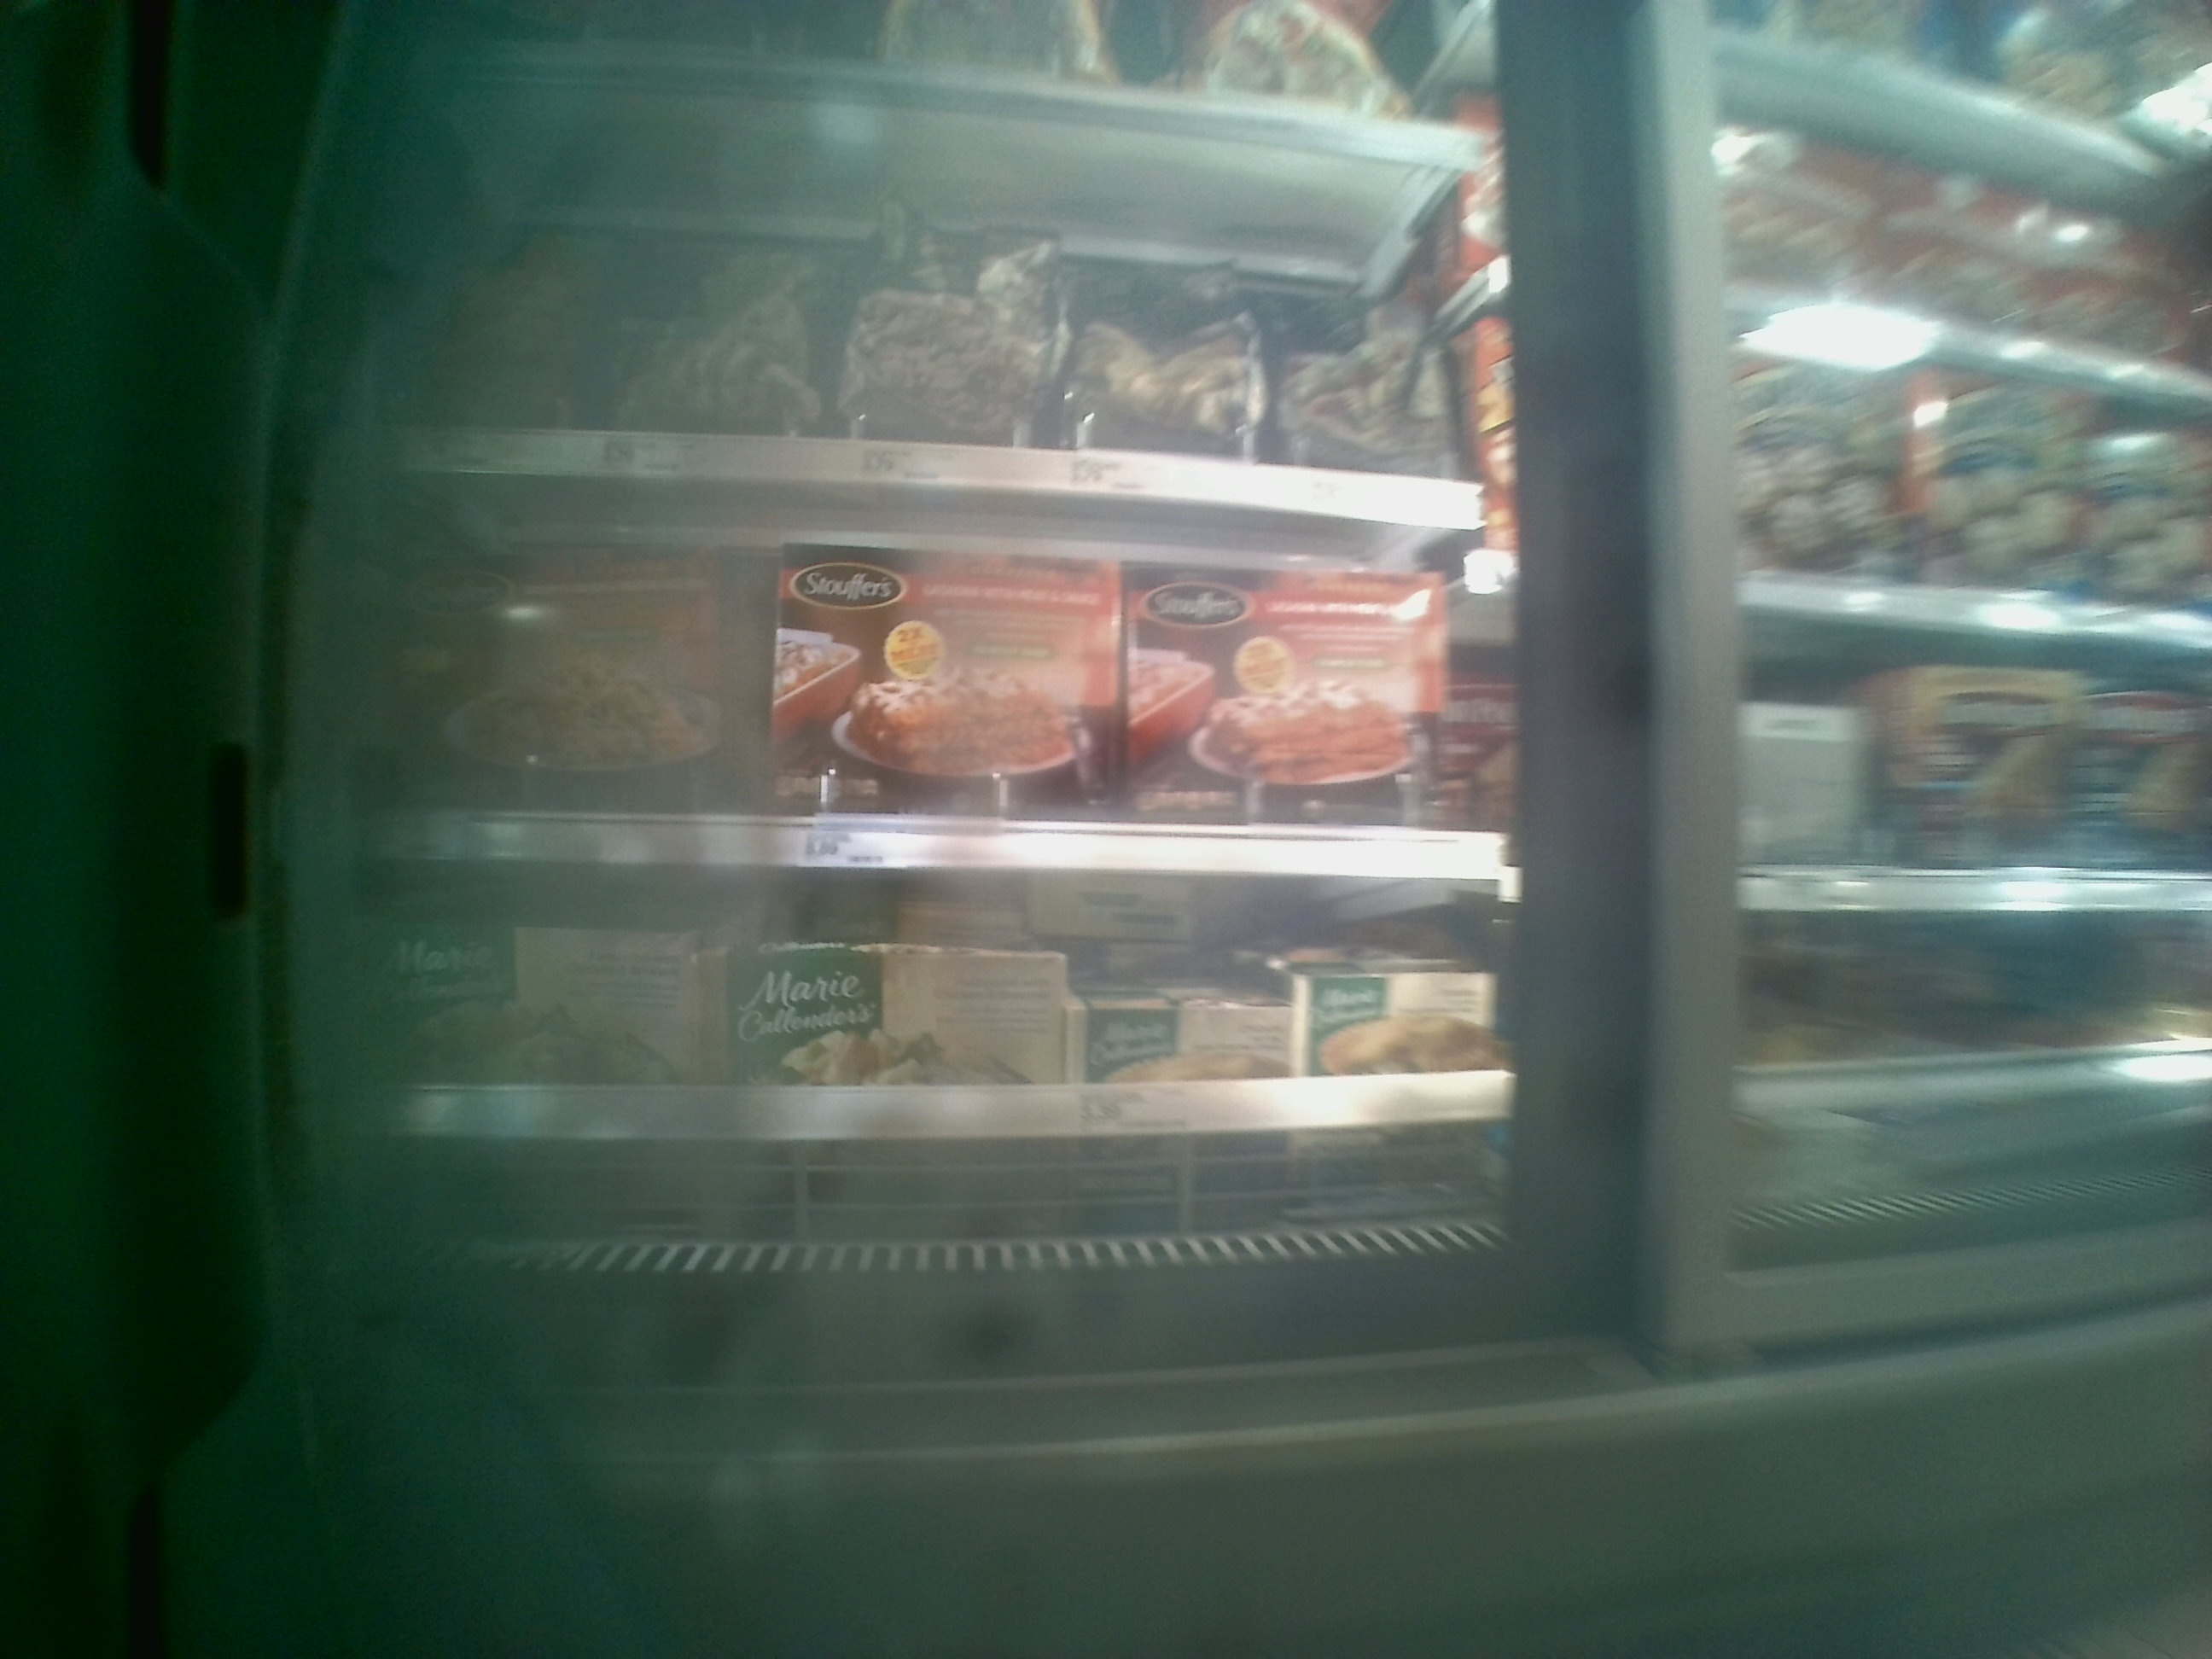shelf: (371, 838, 1521, 1251)
